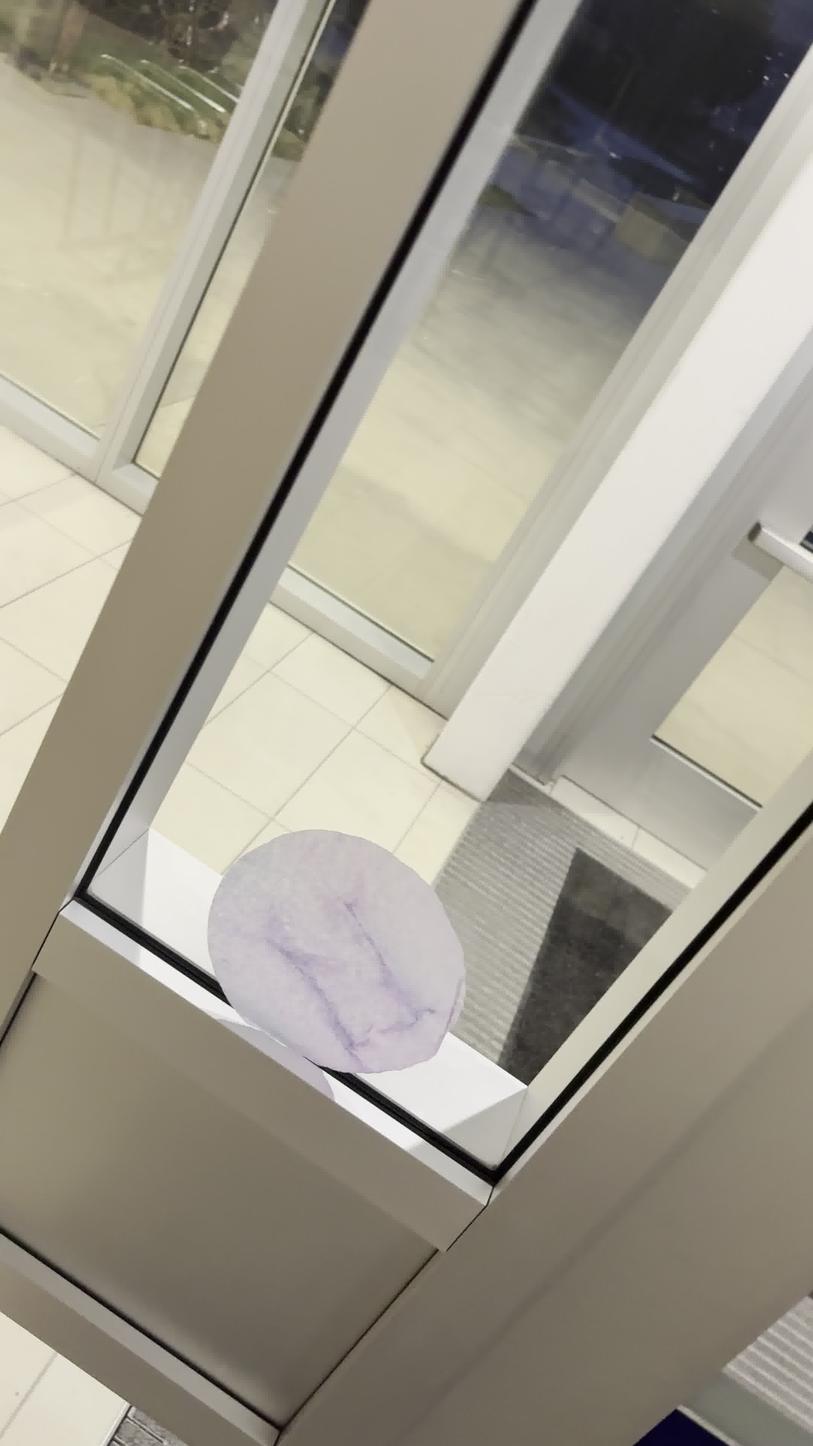Target: (201, 823, 471, 1078)
